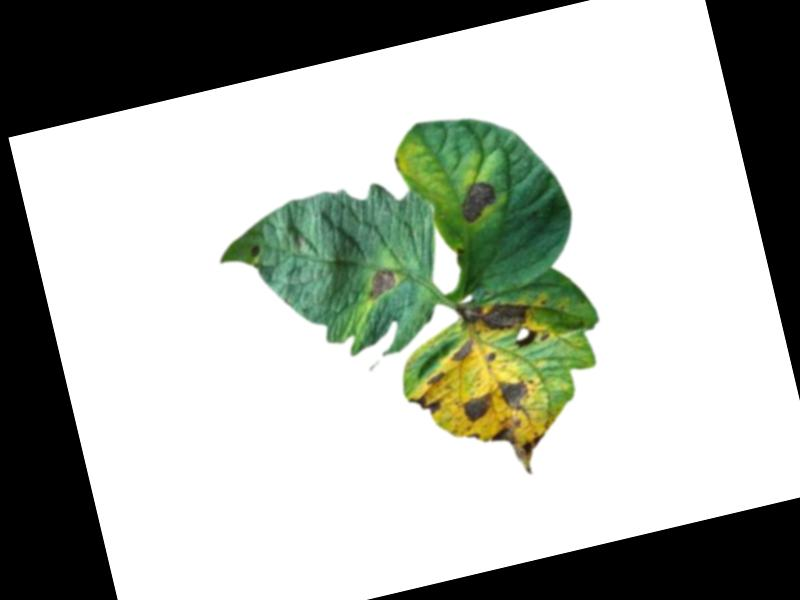Early_blight: (487, 408, 556, 481), (453, 287, 533, 342), (453, 176, 500, 225), (493, 372, 537, 416), (458, 391, 496, 425), (364, 266, 400, 300), (407, 388, 445, 420), (447, 336, 478, 362), (423, 370, 446, 385), (245, 240, 262, 258), (484, 349, 497, 361)
